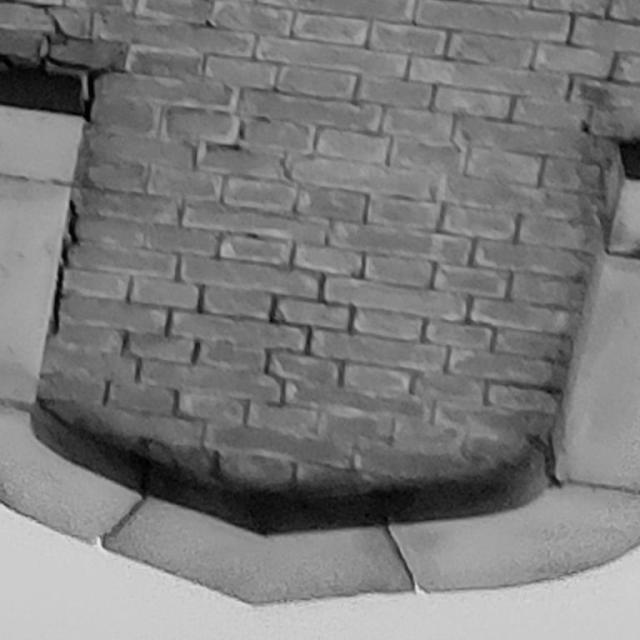crack: (1, 1, 107, 123), (53, 199, 79, 335)
